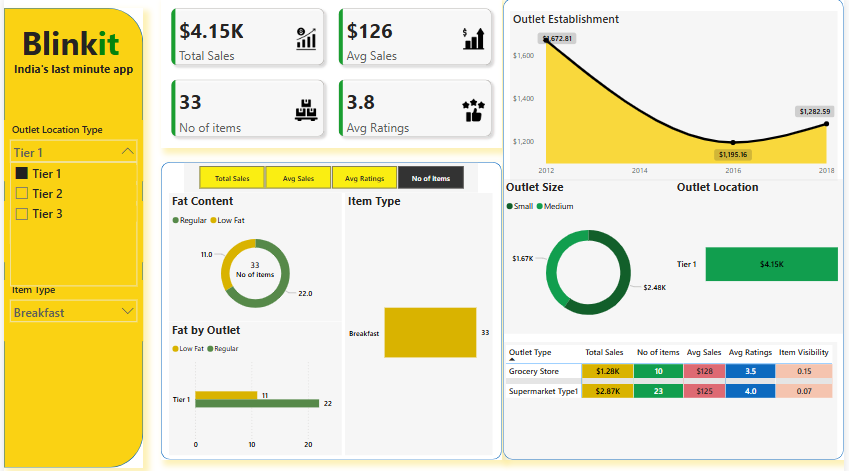

This screenshot's page, from the dashboard's own definition file:
{"tool":"powerbi","page":{"name":"Page 1","canvas":[1400,800],"ordinal":0},"visuals":[{"type":"shape","box":[0,16,232,766.4],"z":0},{"type":"textbox","box":[0,100.8,232,40],"z":1000},{"type":"textbox","box":[20.8,32,180.8,89.6],"z":2000},{"type":"cardVisual","fields":{"Data":["BlinkIT Grocery Data.Total Sales","BlinkIT Grocery Data.Avg Sales","BlinkIT Grocery Data.No of items","BlinkIT Grocery Data.Avg Ratings"]},"box":[262.4,0,568,249.6],"z":3000},{"type":"shape","box":[262.4,273.6,568,496],"z":4000},{"type":"donutChart","title":"Fat Content","fields":{"Y":["BlinkIT Grocery Data.No of items"],"Category":["BlinkIT Grocery Data.Item Fat Content"]},"box":[275.2,324.8,288,214.4],"z":5000},{"type":"slicer","fields":{"Values":["Matrix.Matrix"]},"box":[299.2,273.6,489.6,51.2],"z":6000},{"type":"cardVisual","fields":{"Data":["BlinkIT Grocery Data.No of items"]},"box":[363.2,417.6,110.4,65.6],"z":7000},{"type":"clusteredBarChart","title":"Fat by Outlet ","fields":{"Y":["BlinkIT Grocery Data.No of items"],"Category":["BlinkIT Grocery Data.Outlet Location Type"],"Series":["BlinkIT Grocery Data.Item Fat Content"]},"box":[275.2,539.2,288,222.4],"z":8000},{"type":"barChart","title":"Item Type","fields":{"Y":["BlinkIT Grocery Data.No of items"],"Category":["BlinkIT Grocery Data.Item Type"]},"box":[568,324.8,246.4,436.8],"z":9000},{"type":"shape","box":[832,0,568,769.6],"z":10000},{"type":"lineChart","title":"Outlet Establishment ","fields":{"Category":["BlinkIT Grocery Data.Outlet Establishment Year"],"Y":["BlinkIT Grocery Data.Total Sales"]},"box":[843.2,22.4,545.6,283.2],"z":11000},{"type":"donutChart","title":"Outlet Size","fields":{"Category":["BlinkIT Grocery Data.Outlet Size"],"Y":["BlinkIT Grocery Data.Total Sales"]},"box":[832,302.4,284.8,257.6],"z":12000},{"type":"funnel","title":"Outlet Location ","fields":{"Category":["BlinkIT Grocery Data.Outlet Location Type"],"Y":["BlinkIT Grocery Data.Total Sales"]},"box":[1116.8,302.4,283.2,257.6],"z":13000},{"type":"pivotTable","title":"Outlet Type","fields":{"Rows":["BlinkIT Grocery Data.Outlet Type"],"Values":["BlinkIT Grocery Data.Total Sales","BlinkIT Grocery Data.No of items","BlinkIT Grocery Data.Avg Sales","BlinkIT Grocery Data.Avg Ratings","Avg(BlinkIT Grocery Data.Item Visibility)"]},"box":[832,572.8,556.8,196.8],"z":14000},{"type":"slicer","fields":{"Values":["BlinkIT Grocery Data.Outlet Location Type"]},"box":[0,203.2,232,102.4],"z":15000},{"type":"slicer","fields":{"Values":["BlinkIT Grocery Data.Outlet Size"]},"box":[0,337.6,232,102.4],"z":16000},{"type":"slicer","fields":{"Values":["BlinkIT Grocery Data.Item Type"]},"box":[0,470.4,232,102.4],"z":17000}]}

Visuals, with their boxes in screenshot pixels (x1, y1, x2, y2):
shape: x1=0, y1=10, x2=140, y2=470
textbox: x1=0, y1=61, x2=140, y2=85
textbox: x1=13, y1=19, x2=121, y2=73
cardVisual - BlinkIT Grocery Data.Total Sales x BlinkIT Grocery Data.Avg Sales: x1=158, y1=0, x2=500, y2=150
shape: x1=158, y1=165, x2=500, y2=463
"Fat Content" donutChart: x1=166, y1=195, x2=339, y2=325
slicer - Matrix.Matrix: x1=180, y1=165, x2=475, y2=195
cardVisual - BlinkIT Grocery Data.No of items: x1=219, y1=251, x2=285, y2=291
"Fat by Outlet " clusteredBarChart: x1=166, y1=325, x2=339, y2=458
"Item Type" barChart: x1=342, y1=195, x2=490, y2=458
shape: x1=501, y1=0, x2=843, y2=463
"Outlet Establishment " lineChart: x1=507, y1=13, x2=836, y2=184
"Outlet Size" donutChart: x1=501, y1=182, x2=672, y2=337
"Outlet Location " funnel: x1=672, y1=182, x2=843, y2=337
"Outlet Type" pivotTable: x1=501, y1=345, x2=836, y2=463
slicer - BlinkIT Grocery Data.Outlet Location Type: x1=0, y1=122, x2=140, y2=184
slicer - BlinkIT Grocery Data.Outlet Size: x1=0, y1=203, x2=140, y2=265
slicer - BlinkIT Grocery Data.Item Type: x1=0, y1=283, x2=140, y2=345
